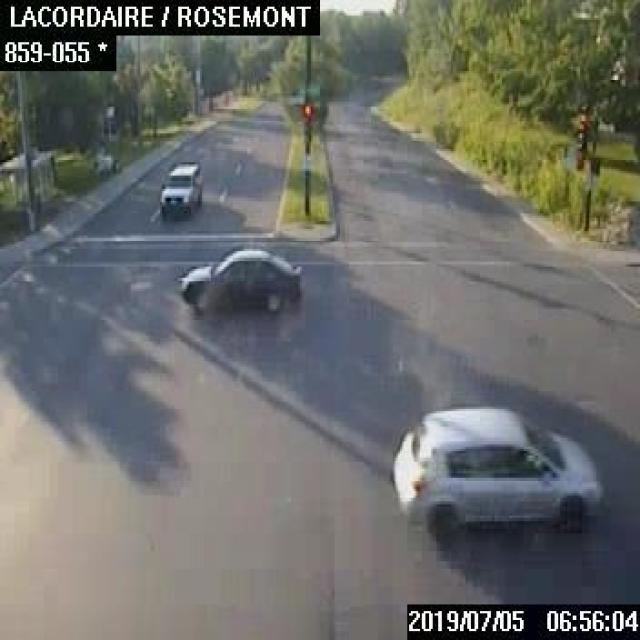vehicle: (392, 408, 602, 534), (177, 248, 301, 316), (158, 162, 203, 214)
